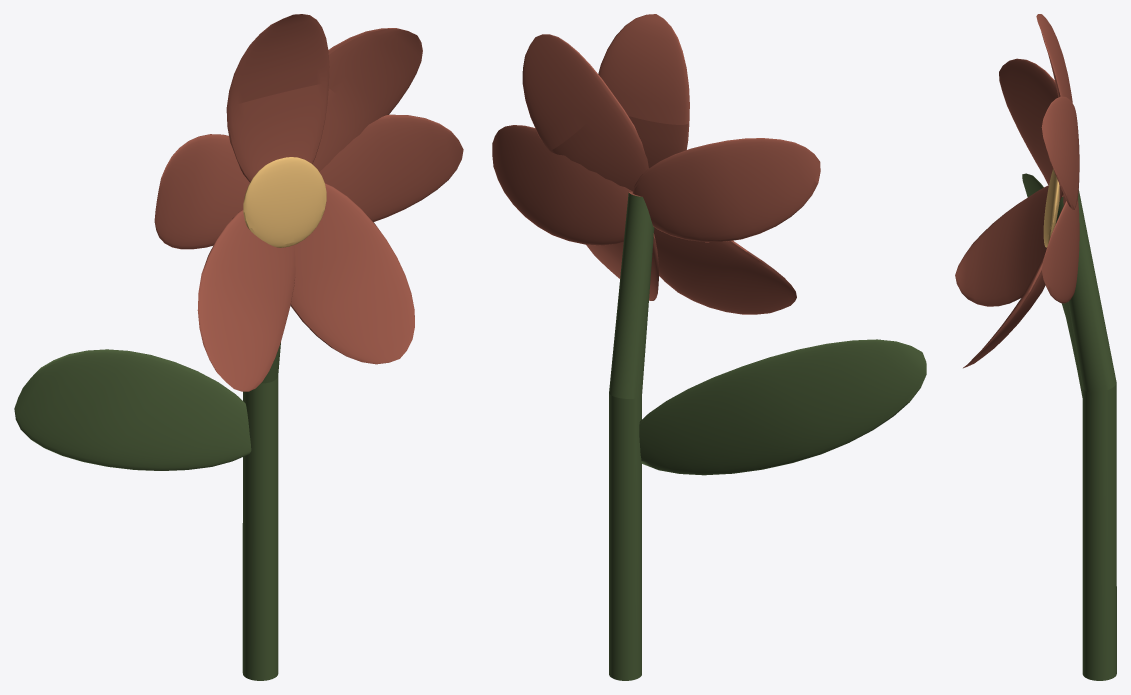
File: flower2.fbx
The picture shows the model from 3 angles, left to right: view 1: azimuth 30°, elevation 25°; view 2: azimuth 150°, elevation 25°; view 3: azimuth 270°, elevation 25°; orthographic projection. The views are drawn at different scales.
Visible parts, largest first — view 1: Cylinder; view 2: Cylinder; view 3: Cylinder.
Boxes of the visible parts, left/top/right/bottom form: Cylinder: left=14, top=14, right=463, bottom=680; Cylinder: left=492, top=14, right=926, bottom=680; Cylinder: left=955, top=14, right=1116, bottom=680.
Size of the model in its own units: 130 by 408 by 582.
